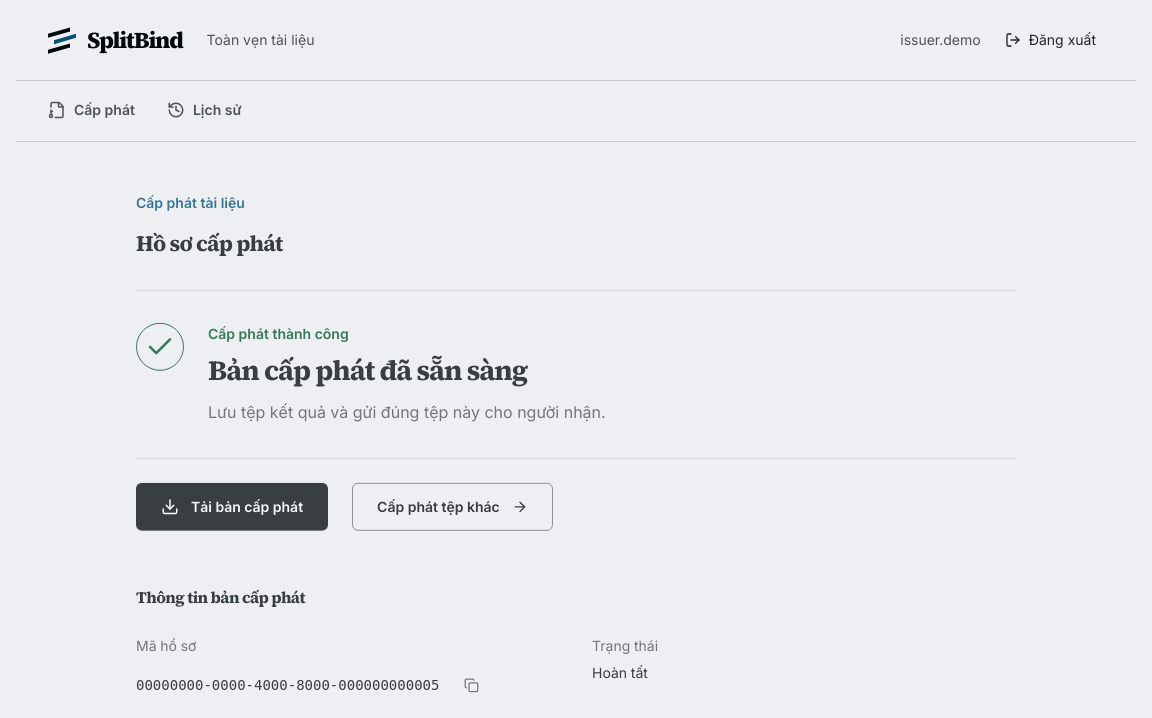
it: issuance browser workflow › removes a stale download action when the server reports permanent unavailability
Click the button "Tải bản cấp phát" at (232, 507), box [136, 483, 328, 531]
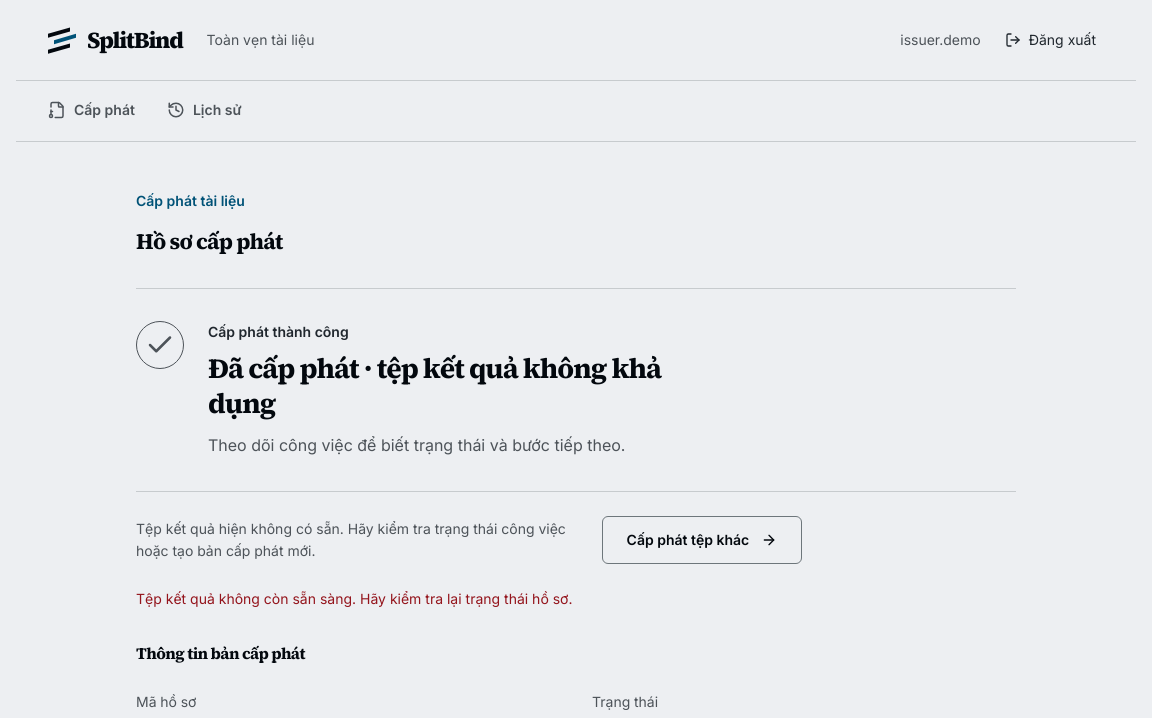
Expected: the text "Tệp kết quả hiện không có sẵn. Hãy kiểm tra trạng thái công việc hoặc tạo bản cấp phát mới." is shown, [136, 520, 566, 559]
Expected: the button "Tải" is gone
